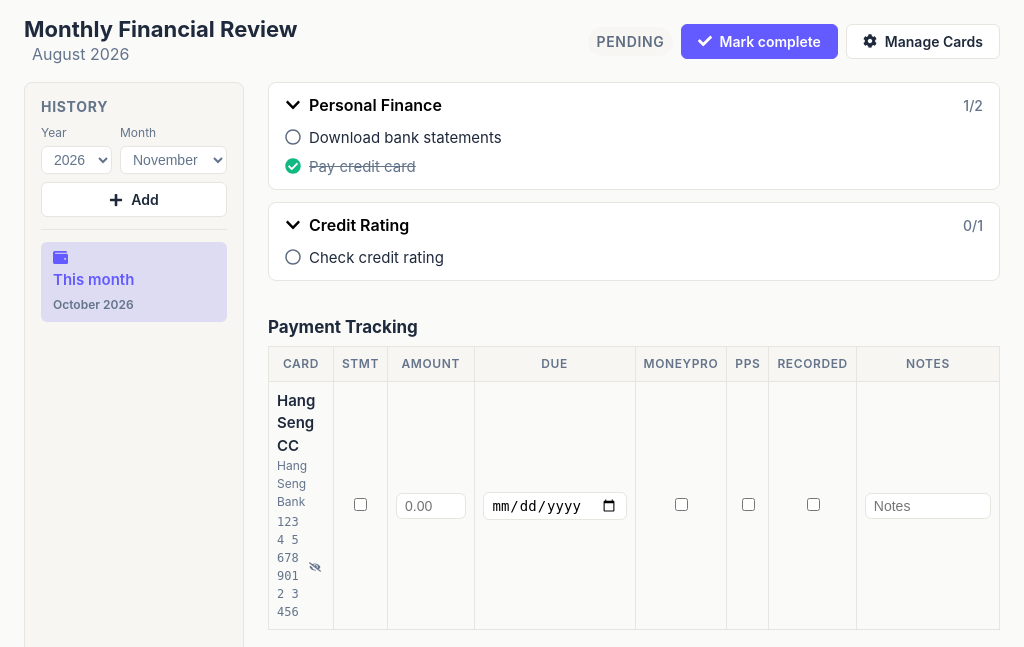
Test: MonthlyReview › masks the account number when the user clicks the hide toggle
This screenshot has width=1024, height=647.
Check: the text "Hang Seng CC" is shown, box [277,391,315,455]
What coordinates should you click on to do the following:
click the button named "Hide account number"
I would click on:
 (315, 567)
Its box is [305,559,325,575].
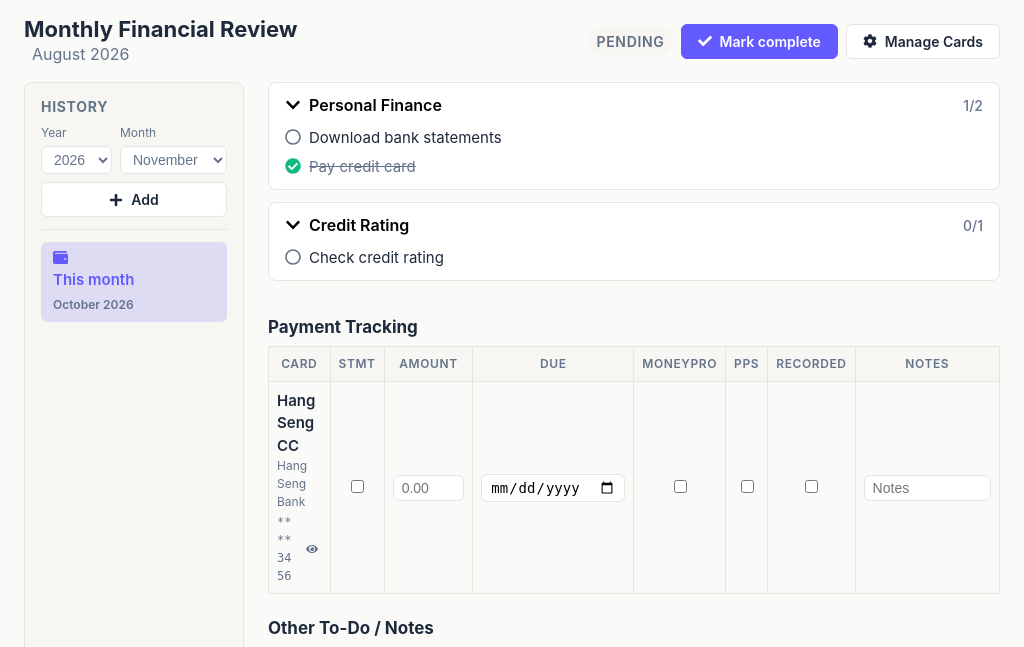
Check: the text "****3456" is shown, box [277,515,292,583]
Check: the text "1234 5678 9012 3456" is gone
